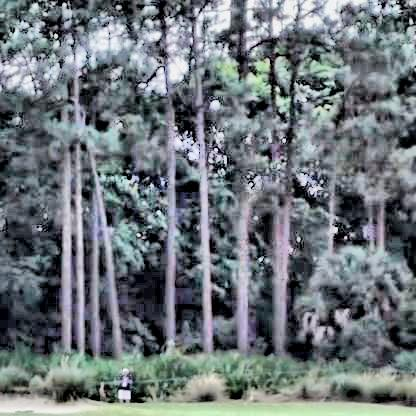golfball: (207, 99, 217, 109)
